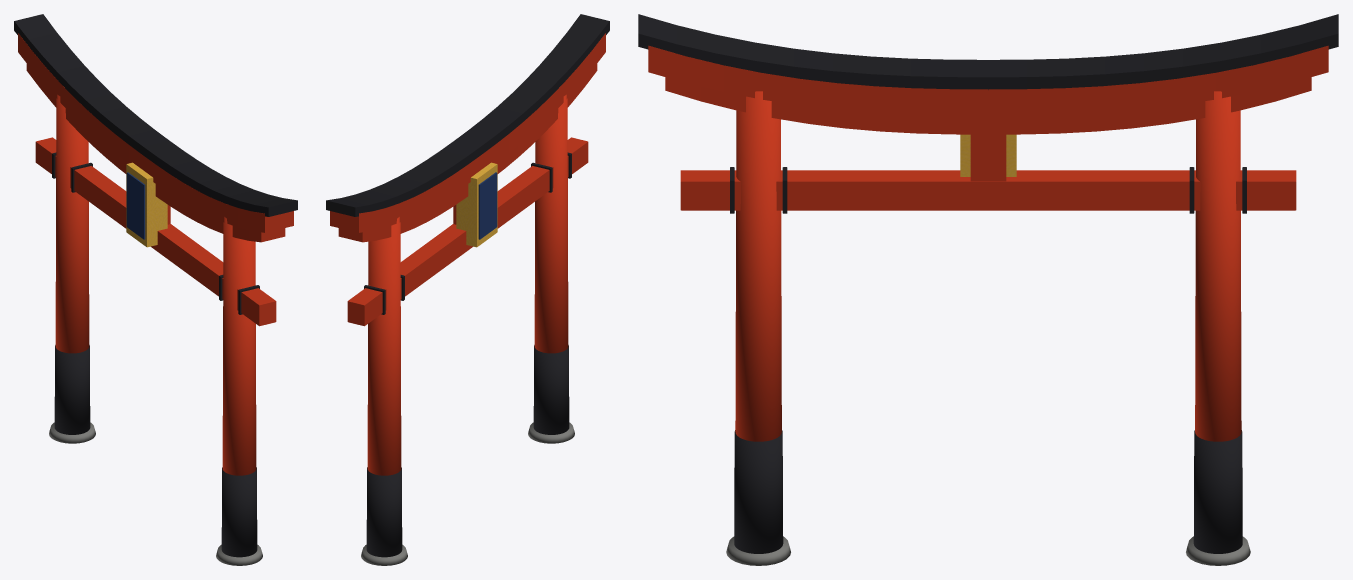
Rendered from Asset_01_Grand_Myojin_Torii.fbx.
3 views of the same model, side by side, from view 1: azimuth 30°, elevation 25°; view 2: azimuth 150°, elevation 25°; view 3: azimuth 270°, elevation 25° (orthographic). The views are drawn at different scales.
Parts seen in each view (by area): view 1: Z01_Outer_Grand_Torii_Kasagi_BlackCap, Z01_Outer_Grand_Torii_Hashira_-1, Z01_Outer_Grand_Torii_Hashira_1, Z01_Outer_Grand_Torii_Nuki, Z01_Outer_Grand_Torii_Kasagi_Body, Z01_Outer_Grand_Torii_Nemaki_-1, Z01_Outer_Grand_Torii_Nemaki_1, Z01_Outer_Grand_Torii_Shimaki, Z01_Outer_Grand_Torii_Plaque_Frame, Z01_Outer_Grand_Torii_Plaque_Face, Z01_Outer_Grand_Torii_StoneBase_1, Z01_Outer_Grand_Torii_StoneBase_-1; view 2: Z01_Outer_Grand_Torii_Kasagi_BlackCap, Z01_Outer_Grand_Torii_Hashira_1, Z01_Outer_Grand_Torii_Hashira_-1, Z01_Outer_Grand_Torii_Nuki, Z01_Outer_Grand_Torii_Kasagi_Body, Z01_Outer_Grand_Torii_Nemaki_1, Z01_Outer_Grand_Torii_Nemaki_-1, Z01_Outer_Grand_Torii_Shimaki, Z01_Outer_Grand_Torii_Plaque_Frame, Z01_Outer_Grand_Torii_Plaque_Face, Z01_Outer_Grand_Torii_StoneBase_-1, Z01_Outer_Grand_Torii_StoneBase_1; view 3: Z01_Outer_Grand_Torii_Kasagi_BlackCap, Z01_Outer_Grand_Torii_Nuki, Z01_Outer_Grand_Torii_Kasagi_Body, Z01_Outer_Grand_Torii_Hashira_-1, Z01_Outer_Grand_Torii_Hashira_1, Z01_Outer_Grand_Torii_Shimaki, Z01_Outer_Grand_Torii_Nemaki_-1, Z01_Outer_Grand_Torii_Nemaki_1, Z01_Outer_Grand_Torii_Gakuzuka, Z01_Outer_Grand_Torii_StoneBase_-1, Z01_Outer_Grand_Torii_StoneBase_1, Z01_Outer_Grand_Torii_Plaque_Frame.
Boxes of the visible parts, <box> form: Z01_Outer_Grand_Torii_Kasagi_BlackCap: <box>14,14,297,216</box>; Z01_Outer_Grand_Torii_Hashira_-1: <box>222,217,256,475</box>; Z01_Outer_Grand_Torii_Hashira_1: <box>55,94,89,353</box>; Z01_Outer_Grand_Torii_Nuki: <box>35,137,276,326</box>; Z01_Outer_Grand_Torii_Kasagi_Body: <box>18,33,293,232</box>; Z01_Outer_Grand_Torii_Nemaki_-1: <box>221,467,257,557</box>; Z01_Outer_Grand_Torii_Nemaki_1: <box>54,345,90,434</box>; Z01_Outer_Grand_Torii_Shimaki: <box>26,63,285,242</box>; Z01_Outer_Grand_Torii_Plaque_Frame: <box>126,162,167,247</box>; Z01_Outer_Grand_Torii_Plaque_Face: <box>126,172,145,239</box>; Z01_Outer_Grand_Torii_StoneBase_1: <box>49,422,95,443</box>; Z01_Outer_Grand_Torii_StoneBase_-1: <box>216,544,262,565</box>; Z01_Outer_Grand_Torii_Kasagi_BlackCap: <box>326,14,609,216</box>; Z01_Outer_Grand_Torii_Hashira_1: <box>367,217,401,475</box>; Z01_Outer_Grand_Torii_Hashira_-1: <box>534,94,568,353</box>; Z01_Outer_Grand_Torii_Nuki: <box>347,137,588,326</box>; Z01_Outer_Grand_Torii_Kasagi_Body: <box>330,33,605,232</box>; Z01_Outer_Grand_Torii_Nemaki_1: <box>366,467,402,557</box>; Z01_Outer_Grand_Torii_Nemaki_-1: <box>533,345,569,434</box>; Z01_Outer_Grand_Torii_Shimaki: <box>338,63,597,242</box>; Z01_Outer_Grand_Torii_Plaque_Frame: <box>456,162,497,247</box>; Z01_Outer_Grand_Torii_Plaque_Face: <box>478,172,497,239</box>; Z01_Outer_Grand_Torii_StoneBase_-1: <box>528,422,574,443</box>; Z01_Outer_Grand_Torii_StoneBase_1: <box>361,544,407,565</box>; Z01_Outer_Grand_Torii_Kasagi_BlackCap: <box>638,14,1338,89</box>; Z01_Outer_Grand_Torii_Nuki: <box>680,170,1296,210</box>; Z01_Outer_Grand_Torii_Kasagi_Body: <box>648,45,1328,115</box>; Z01_Outer_Grand_Torii_Hashira_-1: <box>735,91,781,441</box>; Z01_Outer_Grand_Torii_Hashira_1: <box>1195,91,1241,441</box>; Z01_Outer_Grand_Torii_Shimaki: <box>665,77,1311,134</box>; Z01_Outer_Grand_Torii_Nemaki_-1: <box>734,430,783,553</box>; Z01_Outer_Grand_Torii_Nemaki_1: <box>1193,430,1242,553</box>; Z01_Outer_Grand_Torii_Gakuzuka: <box>970,134,1006,181</box>; Z01_Outer_Grand_Torii_StoneBase_-1: <box>726,536,790,565</box>; Z01_Outer_Grand_Torii_StoneBase_1: <box>1186,536,1250,565</box>; Z01_Outer_Grand_Torii_Plaque_Frame: <box>960,134,1016,176</box>.
Bounding box in the file's own units: 111 × 990 × 1189.
5 materials, 1 textured.
